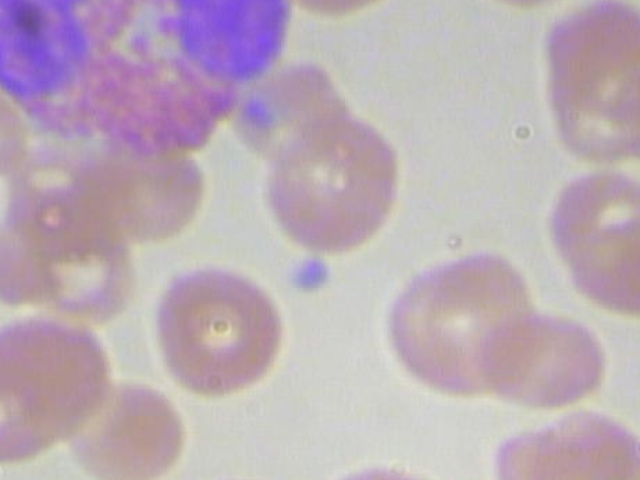Platelets: (282, 255, 336, 296)
RBC: (249, 106, 425, 259), (376, 251, 551, 404), (147, 263, 294, 398), (477, 305, 613, 418), (61, 370, 197, 480), (575, 213, 640, 325), (435, 0, 617, 12), (623, 59, 640, 172)
WBC: (0, 0, 297, 161)
